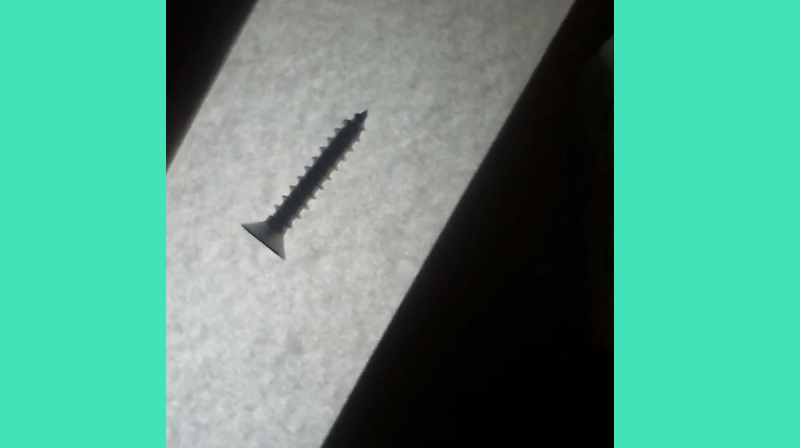S001: (236, 104, 371, 262)
